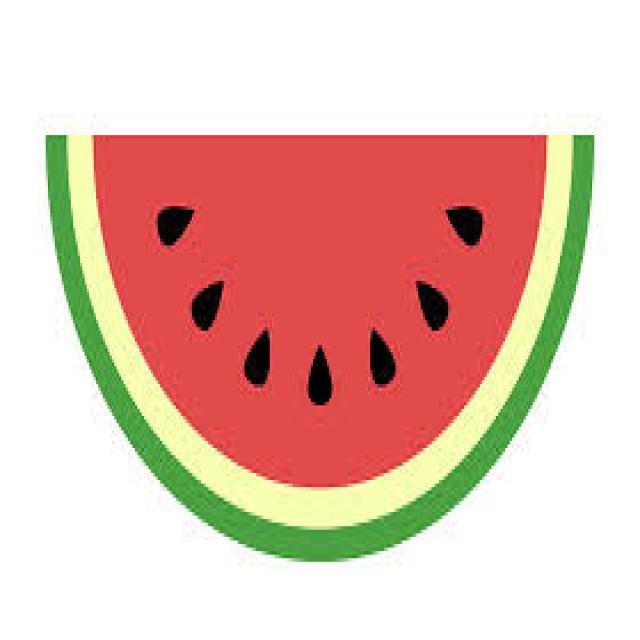watermelon: (43, 132, 594, 562)
